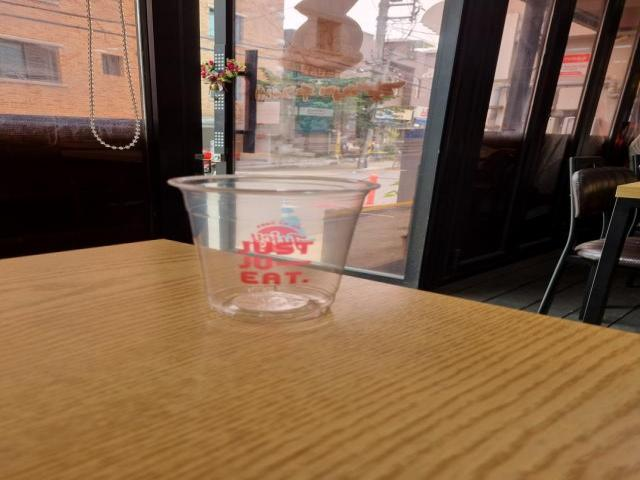cup: (161, 165, 391, 329)
